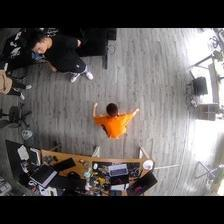fall: (90, 100, 140, 140)
normal: (27, 33, 92, 79)
